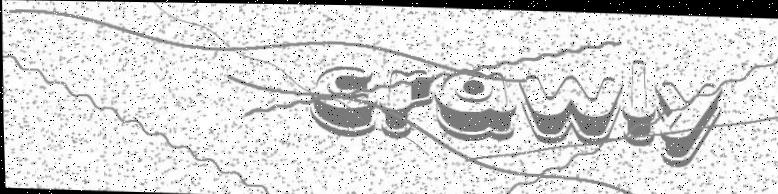a: (431, 68, 518, 141)
c: (307, 62, 377, 136)
l: (619, 55, 656, 146)
r: (378, 65, 433, 138)
w: (517, 71, 625, 144)
y: (653, 77, 725, 167)
